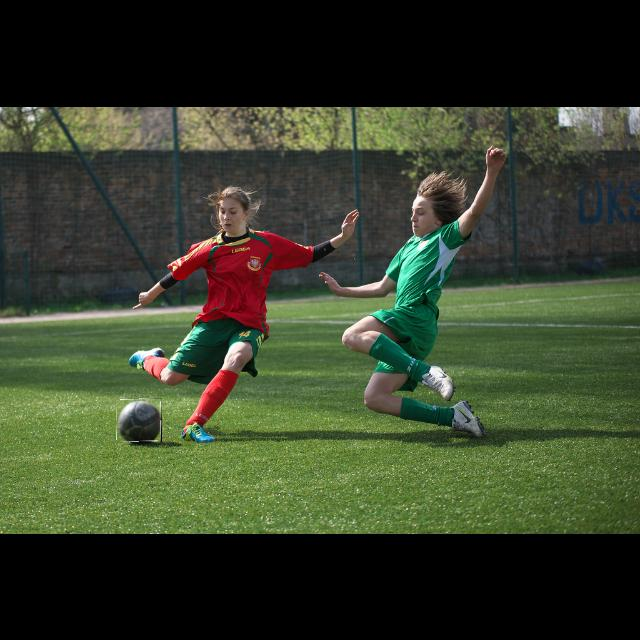Football: (116, 398, 162, 442)
